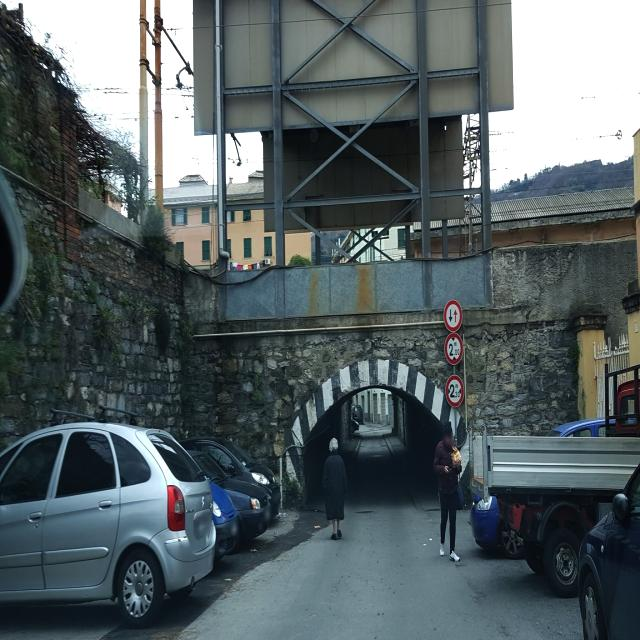car: (0, 417, 217, 629), (577, 421, 640, 637), (180, 436, 281, 524), (179, 456, 269, 546), (203, 478, 239, 566)
